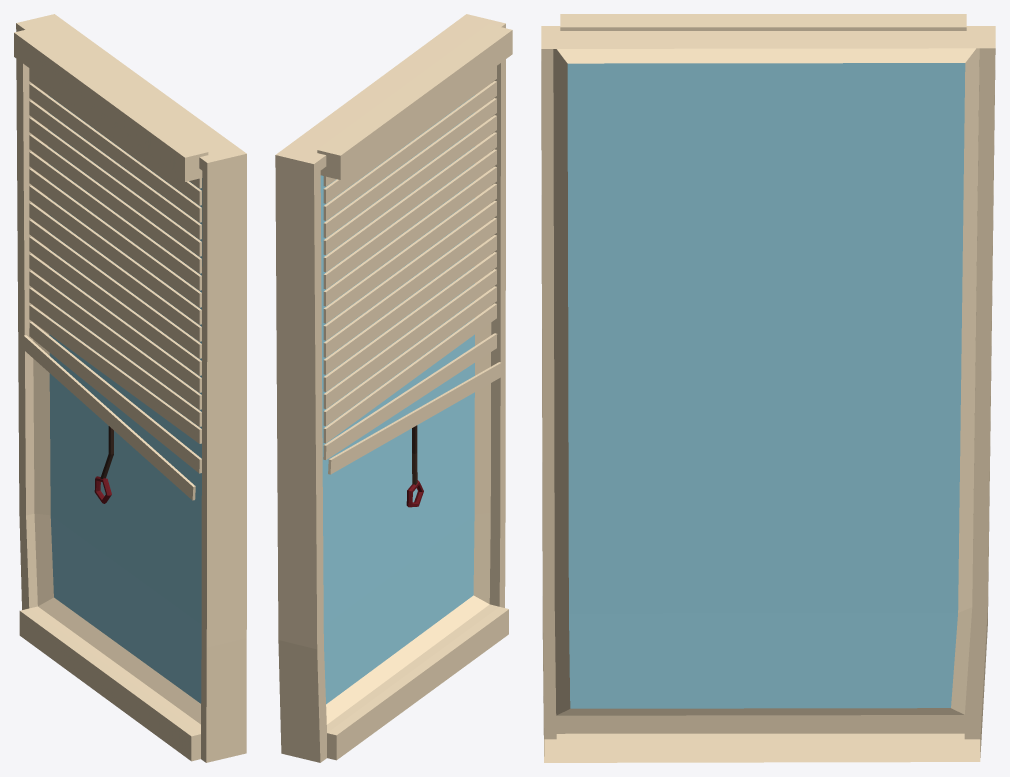
Rendered from окно ванная.fbx.
3 renders of one model, left to right at view 1: azimuth 30°, elevation 25°; view 2: azimuth 150°, elevation 25°; view 3: azimuth 270°, elevation 25°, orthographic. The views are drawn at different scales.
Visible parts, largest first — view 1: окно ванная.001; view 2: окно ванная.001; view 3: окно ванная.001.
Part boxes in pixels (box(x1,y1,x2,y2)): окно ванная.001: box(14, 14, 246, 762); окно ванная.001: box(275, 14, 512, 762); окно ванная.001: box(541, 14, 995, 762).
Bounding box in the file's own units: 152 × 1607 × 923.
